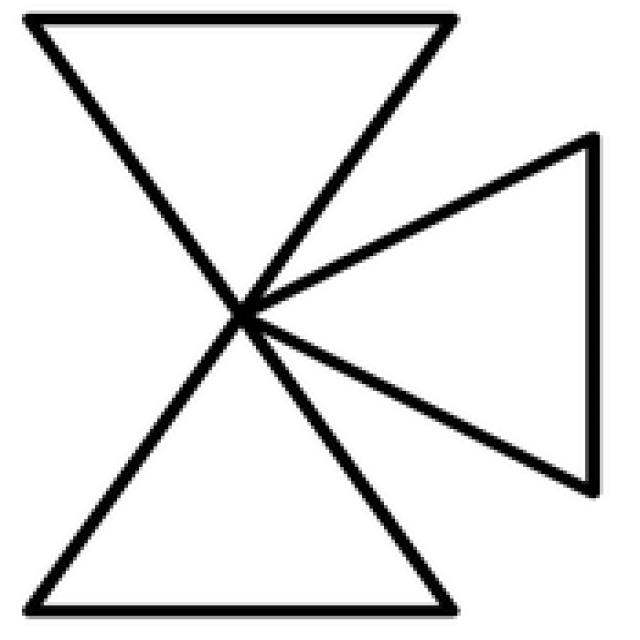3-way Valve: (28, 138, 595, 610), (37, 21, 454, 311)
